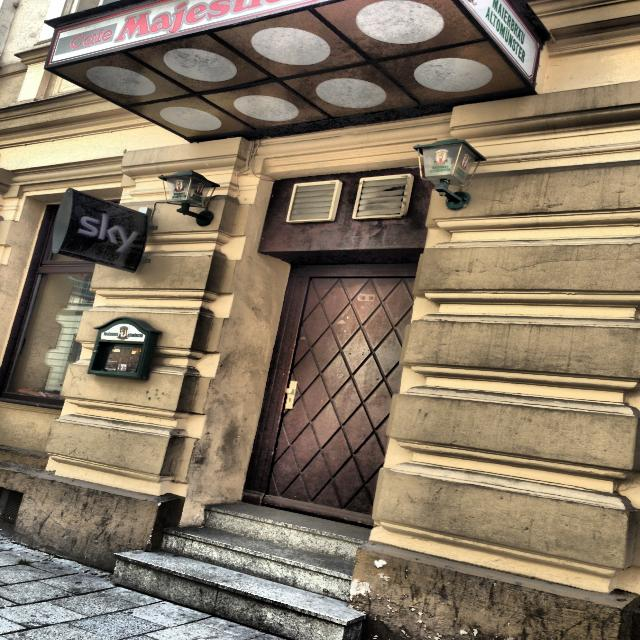escada: (110, 491, 371, 640)
